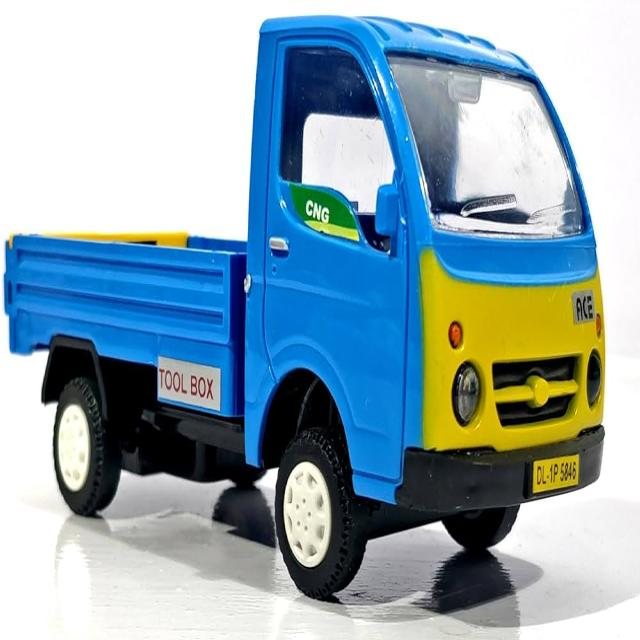truck: (5, 18, 605, 598)
